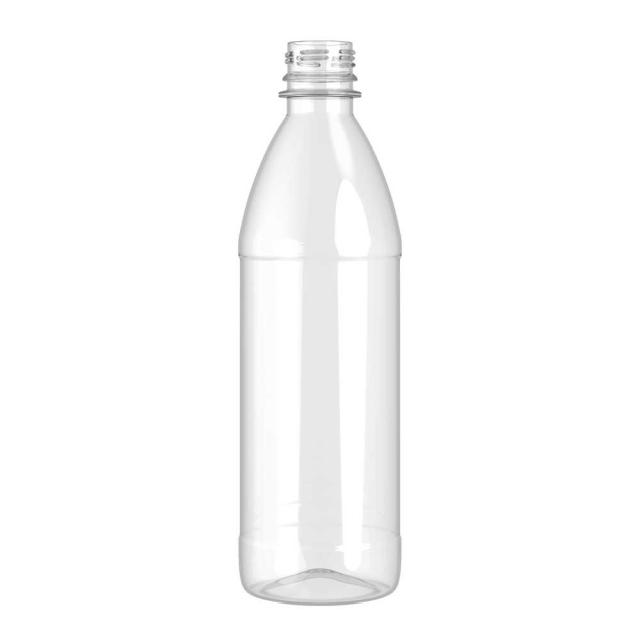bottom: (240, 527, 400, 603)
neck: (239, 41, 401, 259)
